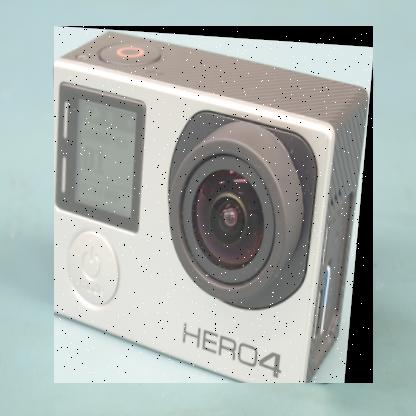Camera: (56, 27, 376, 385)
